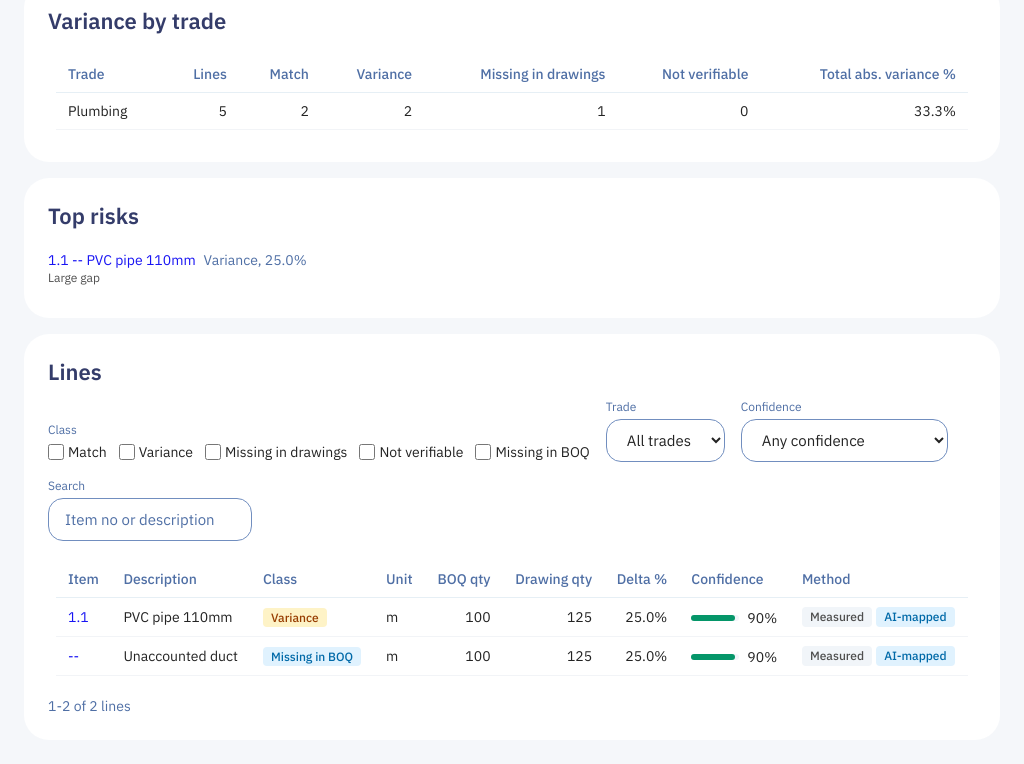
it: VerificationPage › offers no accept/reject for a Missing in BOQ row
(page scrolled)
Click the button named "Open line Unaccounted duct".
click(74, 656)  # box left=68, top=646, right=79, bottom=666
(page scrolled)
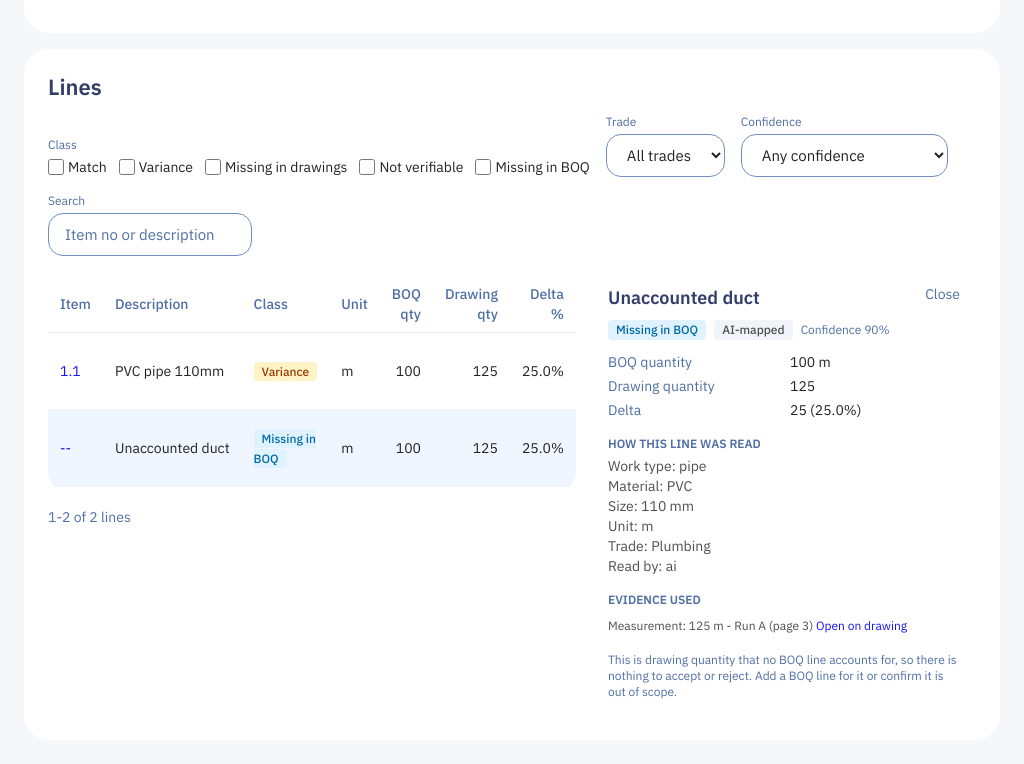
Expected: the dialog named "Line detail" shows "no BOQ line accounts for", left=608, top=652, right=956, bottom=699
